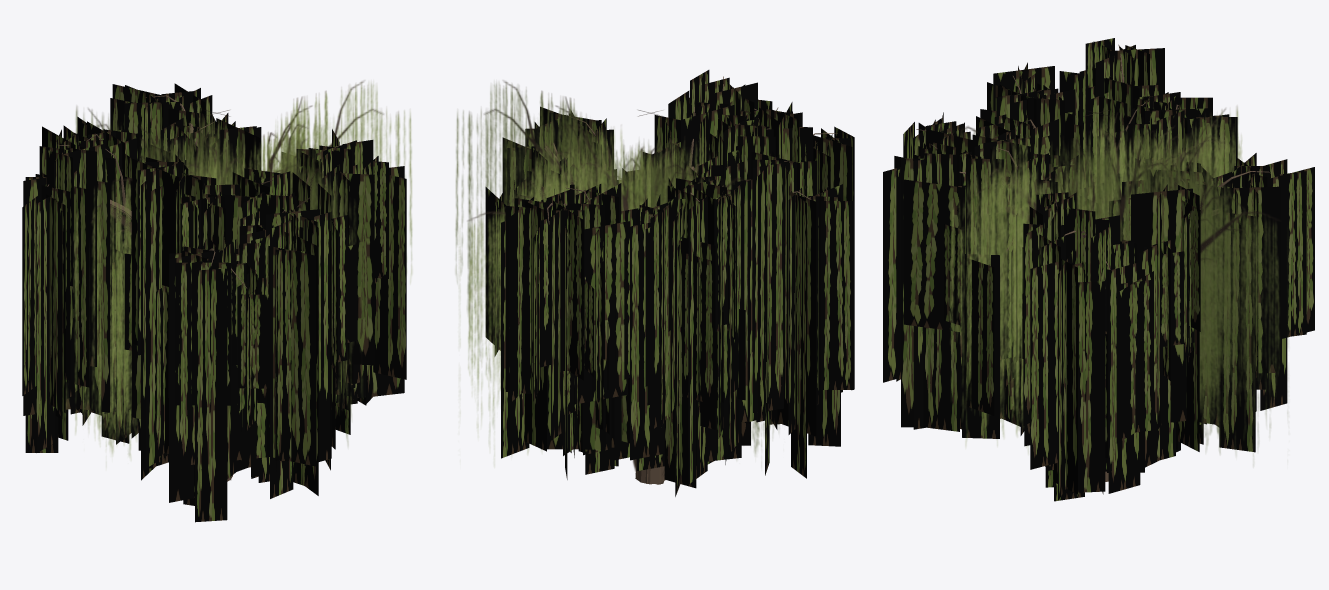
The model's file is tree-willow.glb.
The picture shows the model from 3 angles, left to right: view 1: azimuth 30°, elevation 25°; view 2: azimuth 150°, elevation 25°; view 3: azimuth 270°, elevation 25°; orthographic projection.
Visible parts, largest first — view 1: willow0_lod0_leaves, willow0_lod1_leaves, willow1_lod0_leaves, willow1_lod1_leaves, willow0_lod2_far, willow1_lod2_far, willow0_lod0_bark; view 2: willow0_lod0_leaves, willow1_lod0_leaves, willow1_lod1_leaves, willow0_lod1_leaves, willow0_lod2_far, willow1_lod2_far, willow1_lod0_bark; view 3: willow1_lod0_leaves, willow1_lod1_leaves, willow0_lod2_far, willow0_lod0_leaves, willow0_lod1_leaves, willow1_lod2_far.
Boxes of the visible parts, box(x1,y1,x2,y2) form: willow0_lod0_leaves: box(22, 85, 373, 522); willow0_lod1_leaves: box(23, 83, 356, 502); willow1_lod0_leaves: box(63, 108, 406, 480); willow1_lod1_leaves: box(35, 116, 404, 477); willow0_lod2_far: box(75, 81, 412, 457); willow1_lod2_far: box(66, 91, 353, 479); willow0_lod0_bark: box(47, 95, 339, 288); willow0_lod0_leaves: box(505, 70, 854, 479); willow1_lod0_leaves: box(494, 90, 805, 488); willow1_lod1_leaves: box(485, 102, 812, 496); willow0_lod1_leaves: box(509, 82, 852, 445); willow0_lod2_far: box(455, 80, 764, 477); willow1_lod2_far: box(535, 91, 779, 479); willow1_lod0_bark: box(544, 107, 778, 484); willow1_lod0_leaves: box(922, 62, 1255, 494); willow1_lod1_leaves: box(904, 66, 1237, 500); willow0_lod2_far: box(942, 106, 1288, 453); willow0_lod0_leaves: box(894, 38, 1306, 501); willow0_lod1_leaves: box(883, 48, 1314, 471); willow1_lod2_far: box(960, 110, 1241, 446).
Bounding box in the file's own units: 1.17 × 1.01 × 1.07.
4 materials, 3 textured.
